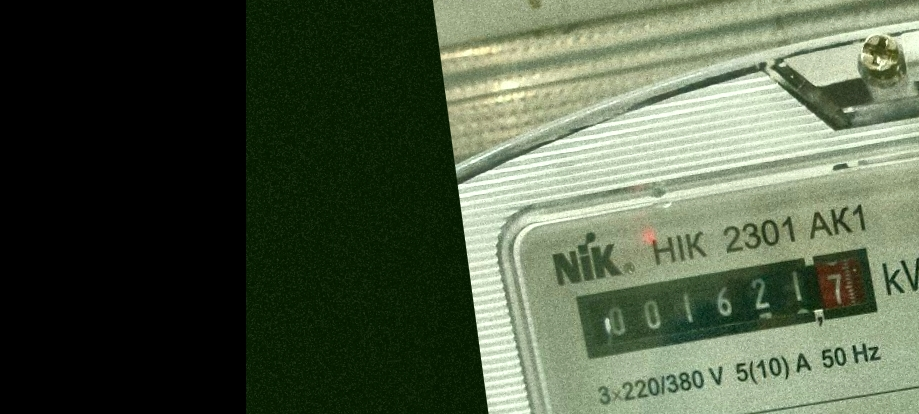0: (639, 294, 666, 334), (605, 301, 629, 337)
1: (787, 265, 806, 304), (678, 288, 697, 325)
2: (748, 274, 774, 312)
6: (712, 283, 735, 319)
7: (823, 269, 848, 307)
screen: (570, 243, 886, 364)
